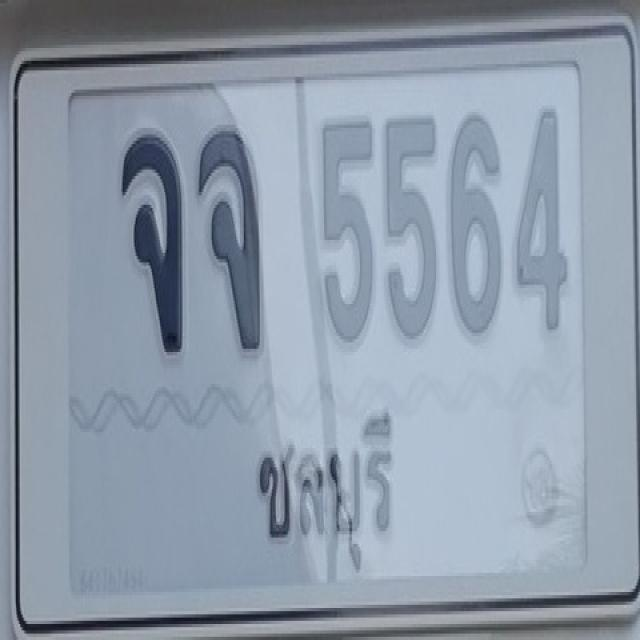license_plate: (6, 19, 638, 640)
